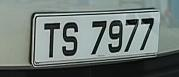7: (88, 18, 109, 57), (139, 15, 157, 54), (124, 16, 140, 54)
9: (107, 17, 125, 55)
S: (60, 18, 81, 61)
T: (42, 17, 62, 62)
